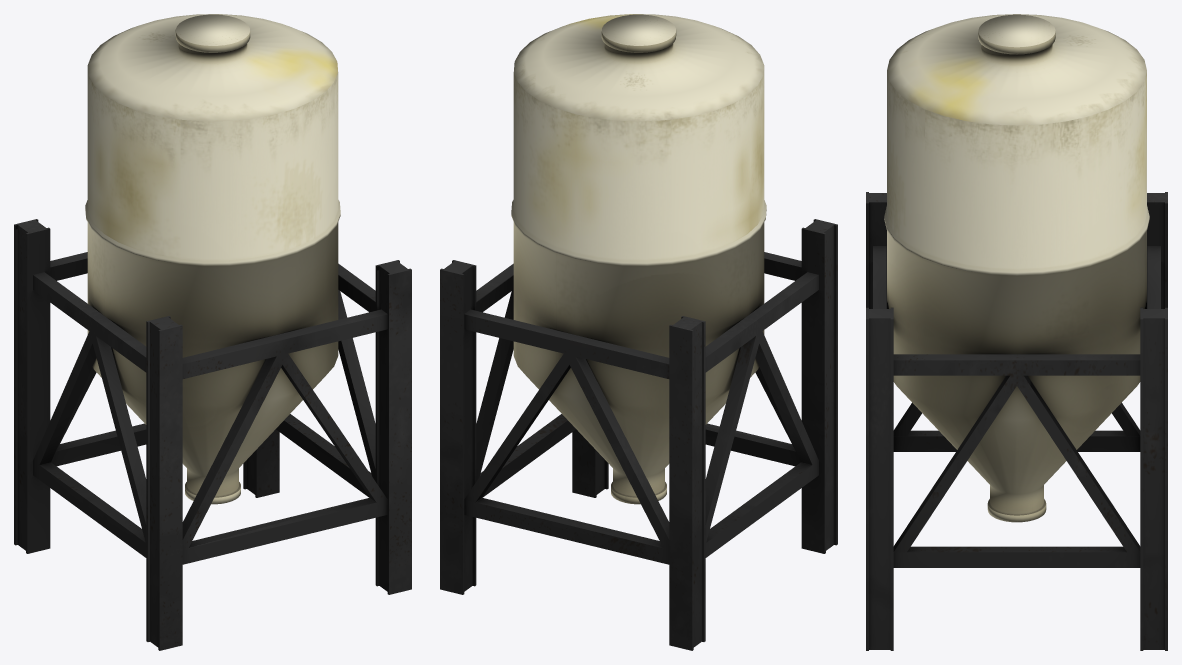
File: silo.fbx
The picture shows the model from 3 angles, left to right: view 1: azimuth 30°, elevation 25°; view 2: azimuth 150°, elevation 25°; view 3: azimuth 270°, elevation 25°; orthographic projection. The views are drawn at different scales.
Parts seen in each view (by area): view 1: silo, cage; view 2: silo, cage; view 3: silo, cage.
Part boxes in pixels (bbox=[...]): silo: bbox=[85, 14, 340, 504]; cage: bbox=[14, 219, 411, 650]; silo: bbox=[511, 14, 766, 504]; cage: bbox=[440, 219, 837, 650]; silo: bbox=[884, 14, 1149, 522]; cage: bbox=[866, 192, 1167, 650].
Bounding box in the file's own units: 1.76 × 3.58 × 1.76.
